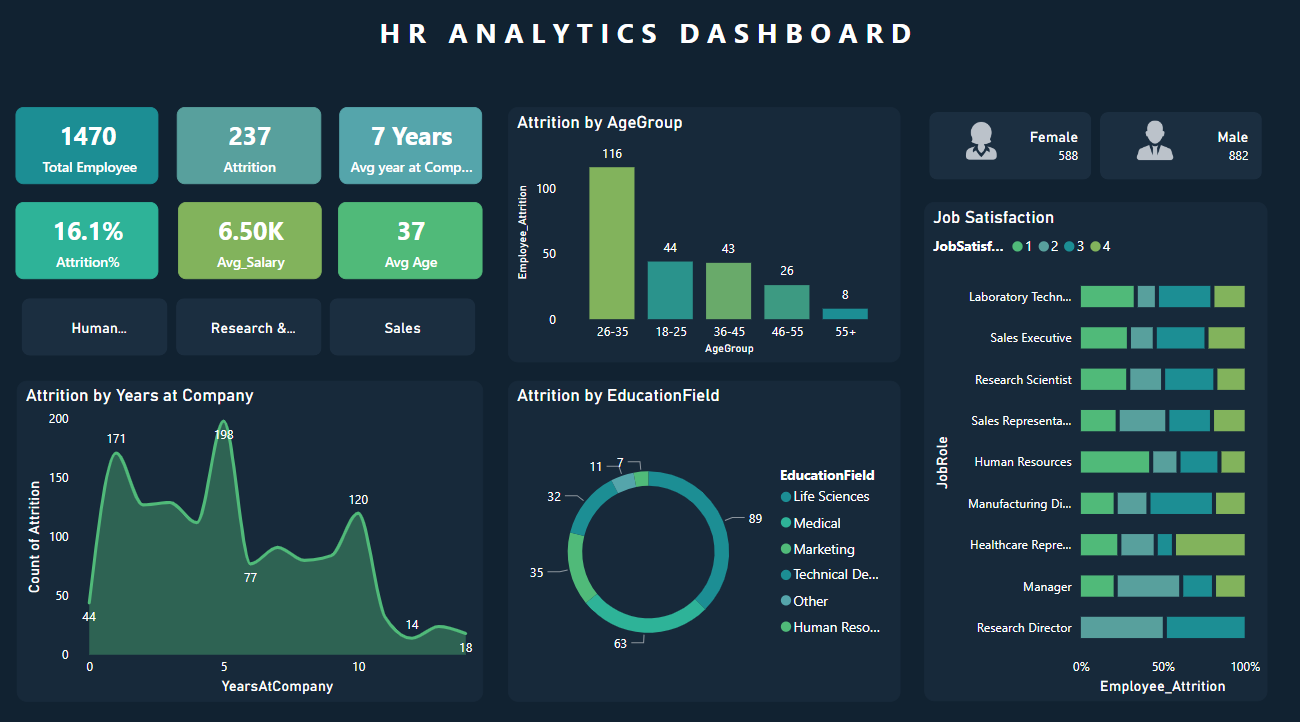

Layout of this report page (visuals, bound fields, positions):
{"tool":"powerbi","page":{"name":"Page 1","canvas":[1280,720],"ordinal":0},"visuals":[{"type":"image","box":[1103.3,120.8,57.6,48],"z":0},{"type":"image","box":[931.7,122.1,61.7,46.7],"z":1000},{"type":"card","fields":{"Values":["HR_Analytics.Avg_Age"]},"box":[336.6,204.7,140.4,75],"z":2000},{"type":"card","fields":{"Values":["HR_Analytics.Attrition%"]},"box":[22.4,204.7,139.2,75],"z":3000},{"type":"card","fields":{"Values":["HR_Analytics.Avg_Salary"]},"box":[180,204.6,140,75],"z":4000},{"type":"card","fields":{"Values":["HR_Analytics.Employee_Count"]},"box":[22.4,111.9,139.2,75],"z":5000},{"type":"card","fields":{"Values":["HR_Analytics.Years_With_Text"]},"box":[337.7,111.9,139.2,75],"z":6000},{"type":"card","fields":{"Values":["HR_Analytics.Employee_Attrition"]},"box":[179.5,111.9,140.4,75],"z":7000},{"type":"areaChart","title":"Attrition by Years at Company","fields":{"Category":["HR_Analytics.YearsAtCompany"],"Y":["CountNonNull(HR_Analytics.Attrition)"]},"box":[22.6,378.4,454.6,313],"z":8000},{"type":"donutChart","title":"Attrition by EducationField","fields":{"Y":["HR_Analytics.Employee_Attrition"],"Category":["HR_Analytics.EducationField"]},"box":[502.2,378.4,382,313],"z":9000},{"type":"clusteredColumnChart","title":"Attrition by AgeGroup","fields":{"Category":["HR_Analytics.AgeGroup"],"Y":["HR_Analytics.Employee_Attrition"]},"box":[502.2,111.9,382,248.7],"z":10000},{"type":"hundredPercentStackedBarChart","title":"Job Satisfaction","fields":{"Category":["HR_Analytics.JobRole"],"Y":["HR_Analytics.Employee_Attrition"],"Series":["HR_Analytics.JobSatisfaction"]},"box":[906.8,204.7,334.4,486.7],"z":11000},{"type":"advancedSlicerVisual","fields":{"Values":["HR_Analytics.Gender"]},"box":[906.8,111.9,334.4,76.2],"z":12000},{"type":"advancedSlicerVisual","fields":{"Values":["HR_Analytics.Department"]},"box":[22.6,294,454.6,66.6],"z":12001},{"type":"textbox","box":[21.4,17.9,540.5,67.8],"z":12002}]}

Visuals, with their boxes in screenshot pixels (x1, y1, x2, y2), scaled from the page's 1280x720 canvas onto the 1300x722 screenshot:
image: l=1121, t=121, r=1179, b=169
image: l=946, t=122, r=1009, b=169
card - HR_Analytics.Avg_Age: l=342, t=205, r=484, b=280
card - HR_Analytics.Attrition%: l=23, t=205, r=164, b=280
card - HR_Analytics.Avg_Salary: l=183, t=205, r=325, b=280
card - HR_Analytics.Employee_Count: l=23, t=112, r=164, b=187
card - HR_Analytics.Years_With_Text: l=343, t=112, r=484, b=187
card - HR_Analytics.Employee_Attrition: l=182, t=112, r=325, b=187
"Attrition by Years at Company" areaChart: l=23, t=379, r=485, b=693
"Attrition by EducationField" donutChart: l=510, t=379, r=898, b=693
"Attrition by AgeGroup" clusteredColumnChart: l=510, t=112, r=898, b=362
"Job Satisfaction" hundredPercentStackedBarChart: l=921, t=205, r=1261, b=693
advancedSlicerVisual - HR_Analytics.Gender: l=921, t=112, r=1261, b=189
advancedSlicerVisual - HR_Analytics.Department: l=23, t=295, r=485, b=362
textbox: l=22, t=18, r=571, b=86
